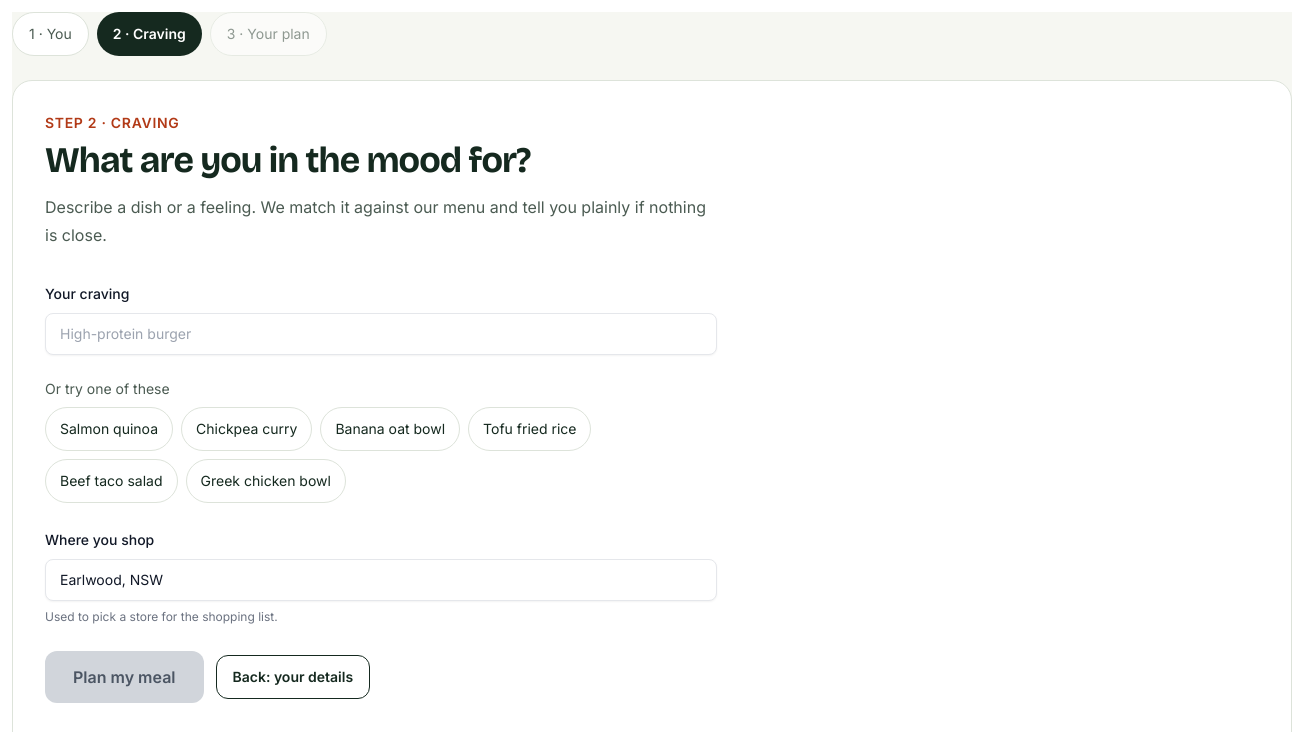
Test: MealFlow error text › shows the macro split and the target result the service reports
Type "chicken fried rice" into the field labelled "Your craving" at (381, 334), box [45,313,717,355]
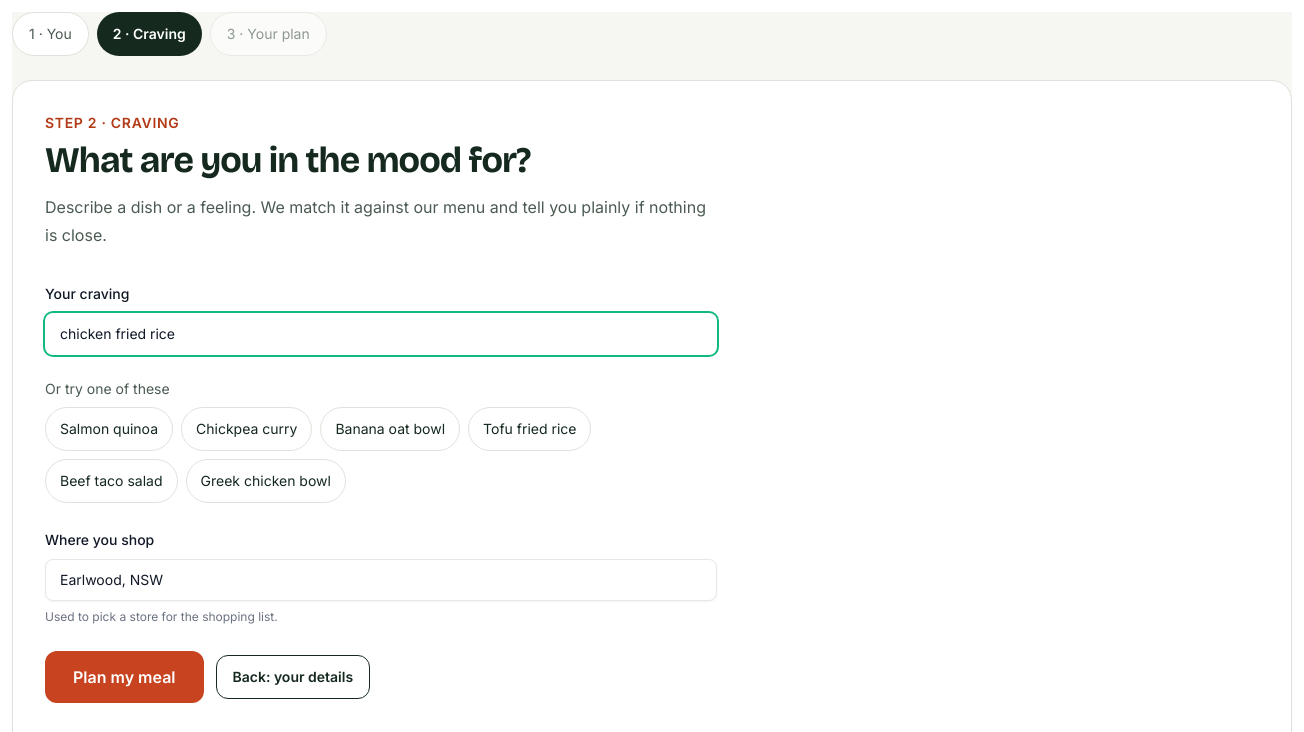
Click the button "Plan my meal" at (124, 677), box [45,651,204,703]
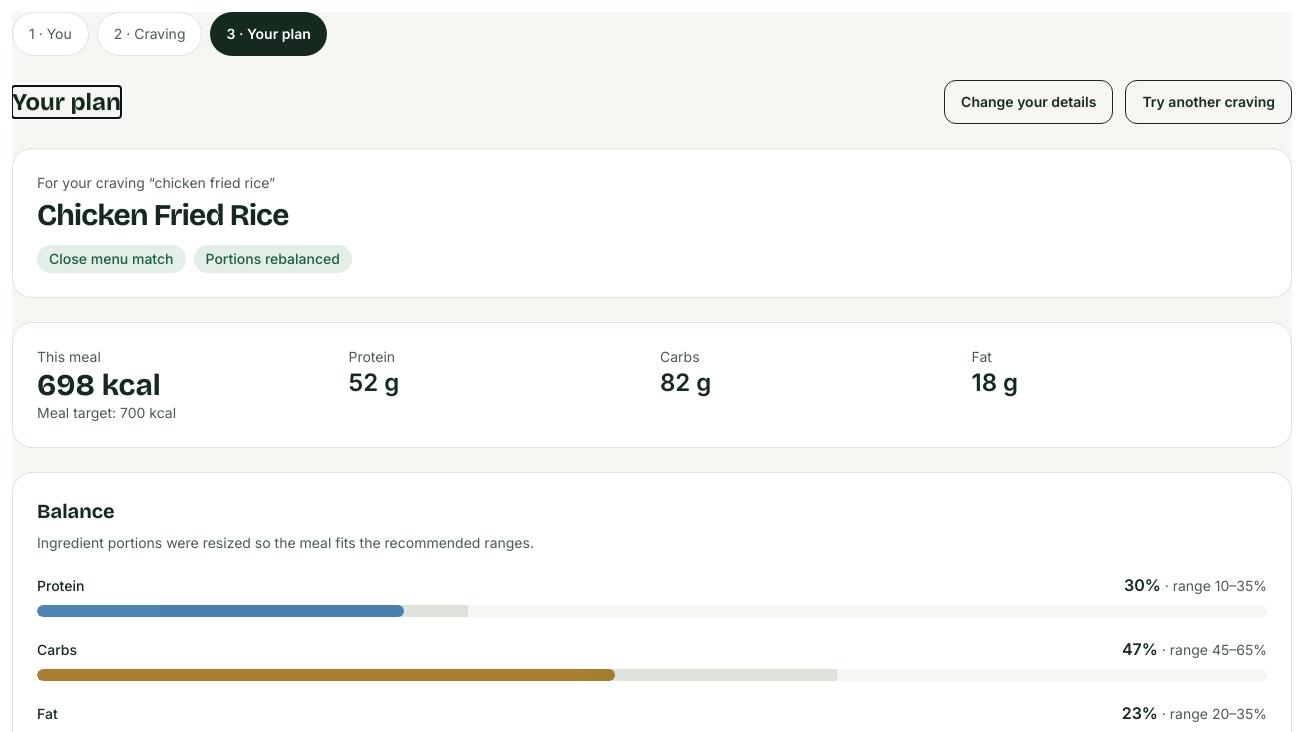
expect the text "Portions rebalanced" is shown: met, box [194,245,352,273]
expect the text "30%" is shown: met, box [1124,575,1161,595]
expect the text "47%" is shown: met, box [1122,639,1158,659]
